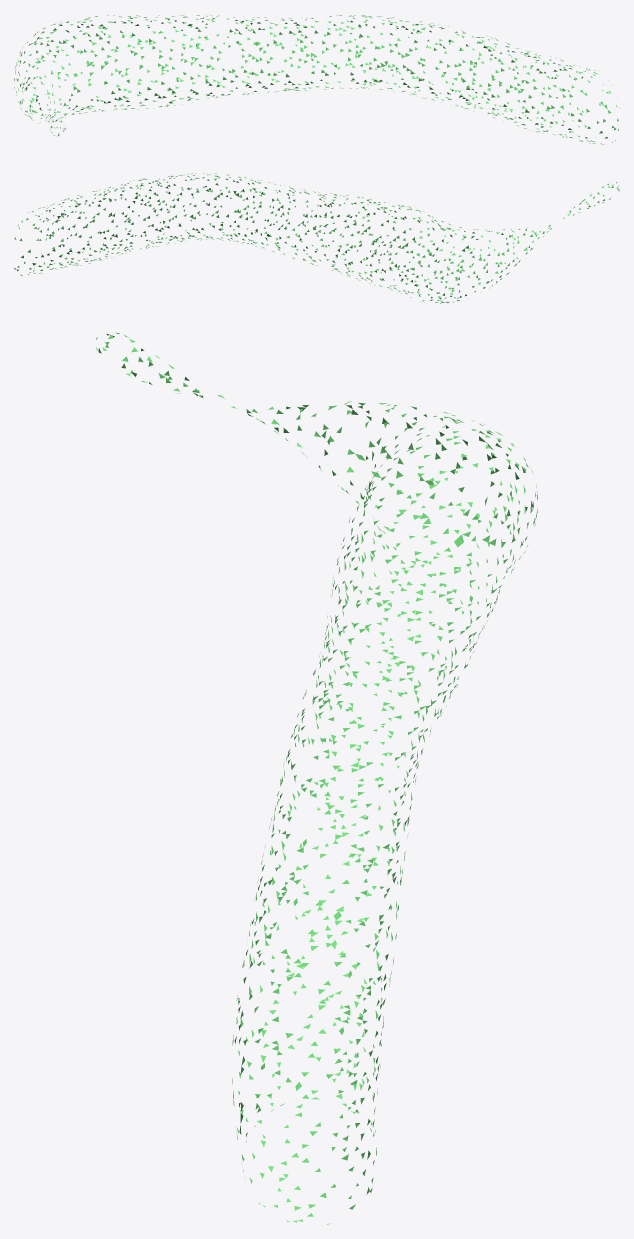
Rendered from morph_018.glb.
The picture shows the model from 3 angles, top to bottom: view 1: azimuth 30°, elevation 25°; view 2: azimuth 150°, elevation 25°; view 3: azimuth 270°, elevation 25°; orthographic projection. The views are drawn at different scales.
Size of the model in its own units: 116 by 37.98 by 41.17.
